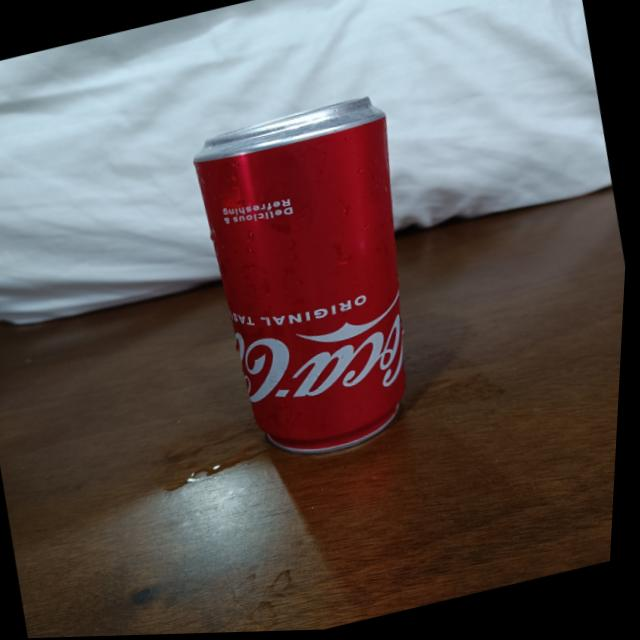coke: (185, 89, 457, 471)
